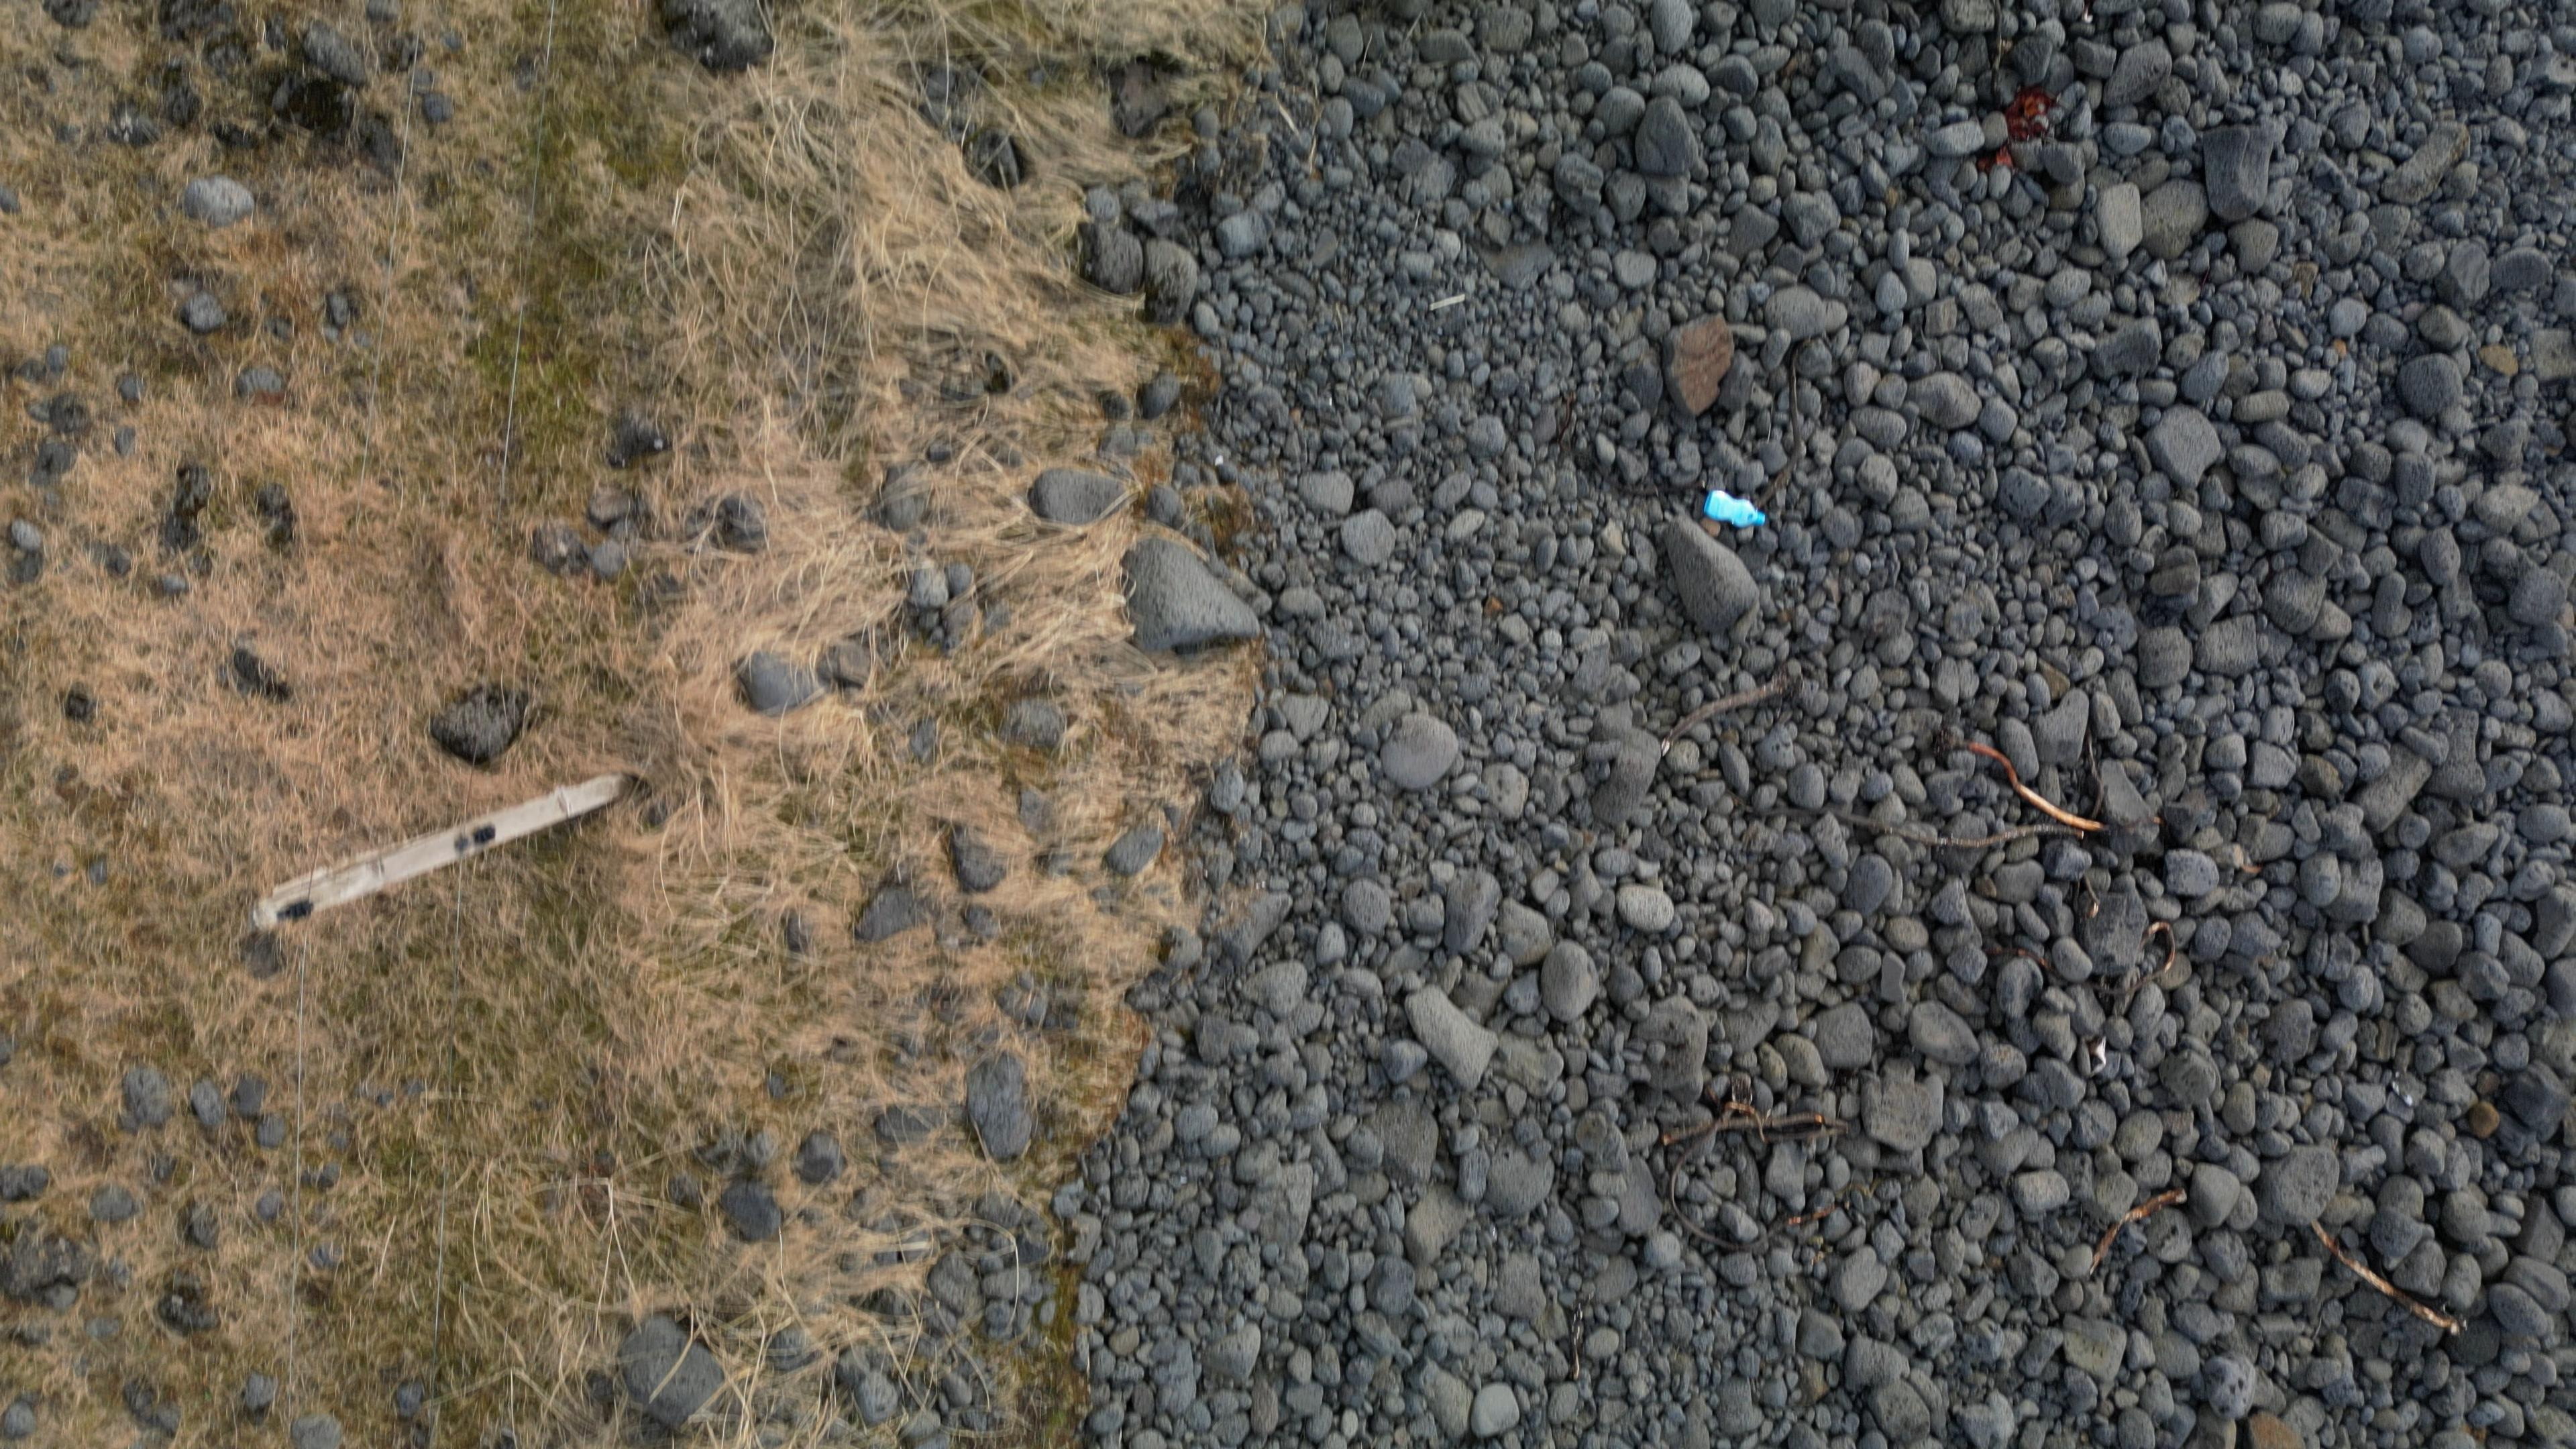trash: (1706, 494, 1766, 529)
